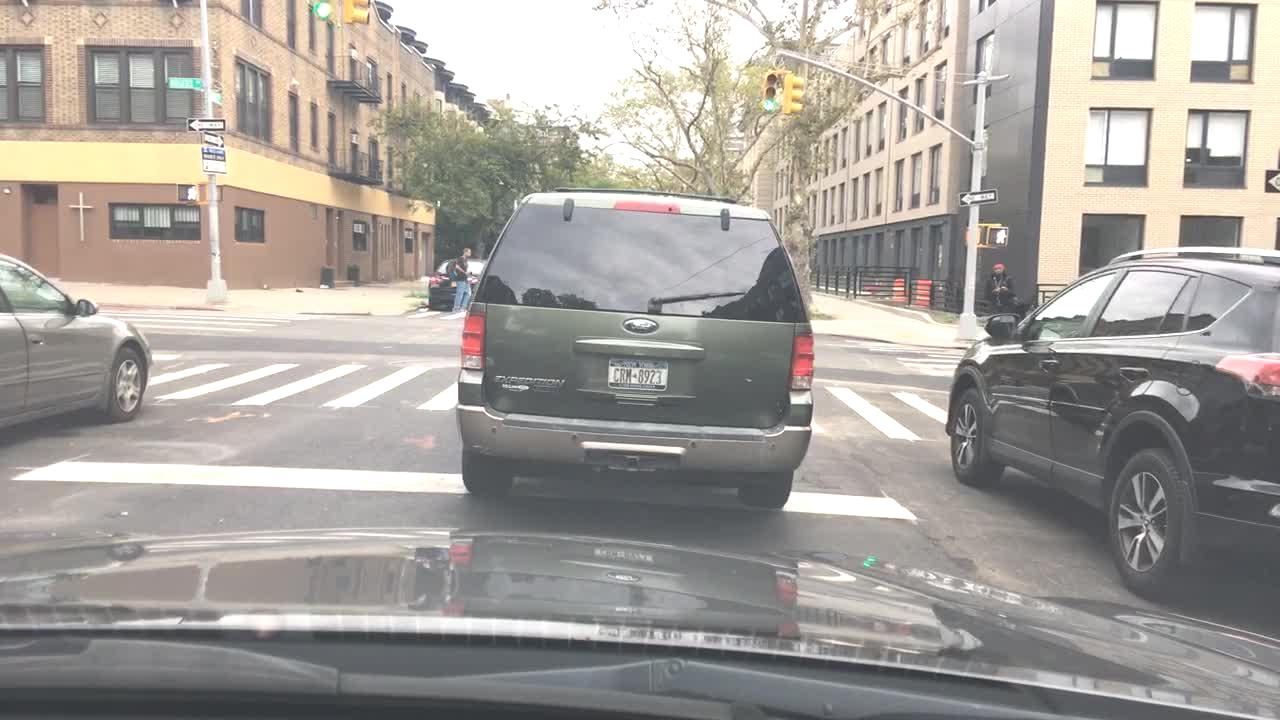ford: (618, 312, 673, 345)
